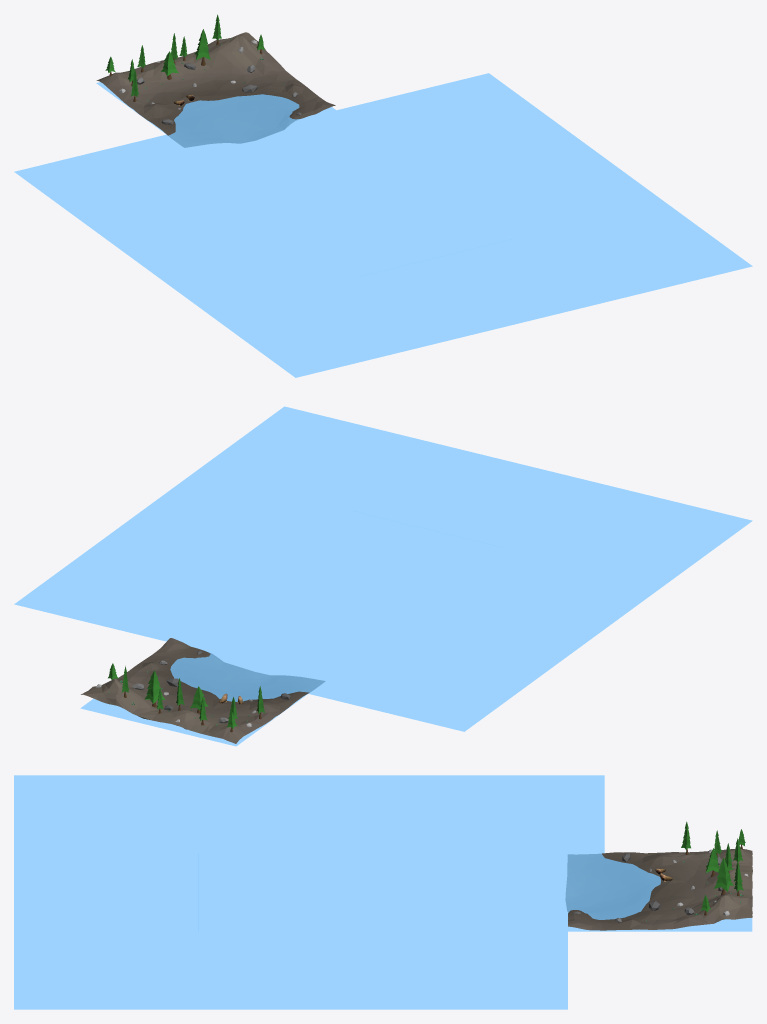
Rendered from Landscape.glb.
3 views of the same model, one above another, from view 1: azimuth 30°, elevation 25°; view 2: azimuth 150°, elevation 25°; view 3: azimuth 270°, elevation 25° (orthographic). The views are drawn at different scales.
Visible parts, largest first — view 1: Plane.001, Plane.002, Plane, Grid, Plane.003; view 2: Plane.001, Plane.002, Plane, Plane.003, Grid; view 3: Plane.001, Plane.002, Plane, Plane.003, Grid.
Boxes of the visible parts, bbox=[...] form: Plane.001: bbox=[14, 134, 447, 377]; Plane.002: bbox=[337, 73, 752, 303]; Plane: bbox=[96, 82, 512, 276]; Grid: bbox=[96, 32, 335, 147]; Plane.003: bbox=[360, 239, 599, 340]; Plane.001: bbox=[308, 482, 752, 731]; Plane.002: bbox=[14, 406, 440, 641]; Plane: bbox=[80, 510, 506, 746]; Plane.003: bbox=[351, 444, 596, 548]; Grid: bbox=[81, 638, 324, 743]; Plane.001: bbox=[14, 775, 604, 853]; Plane.002: bbox=[14, 931, 567, 1009]; Plane: bbox=[198, 853, 752, 931]; Plane.003: bbox=[14, 853, 198, 931]; Grid: bbox=[565, 849, 752, 930].
Size of the model in its own units: 150 by 18.05 by 200.
11 materials, 2 textured.
